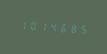eight: (67, 21, 76, 35)
five: (77, 21, 86, 36)
four: (47, 19, 56, 34)
one: (17, 17, 26, 32), (37, 18, 46, 33)
six: (57, 20, 66, 34)
zero: (27, 18, 36, 32)
